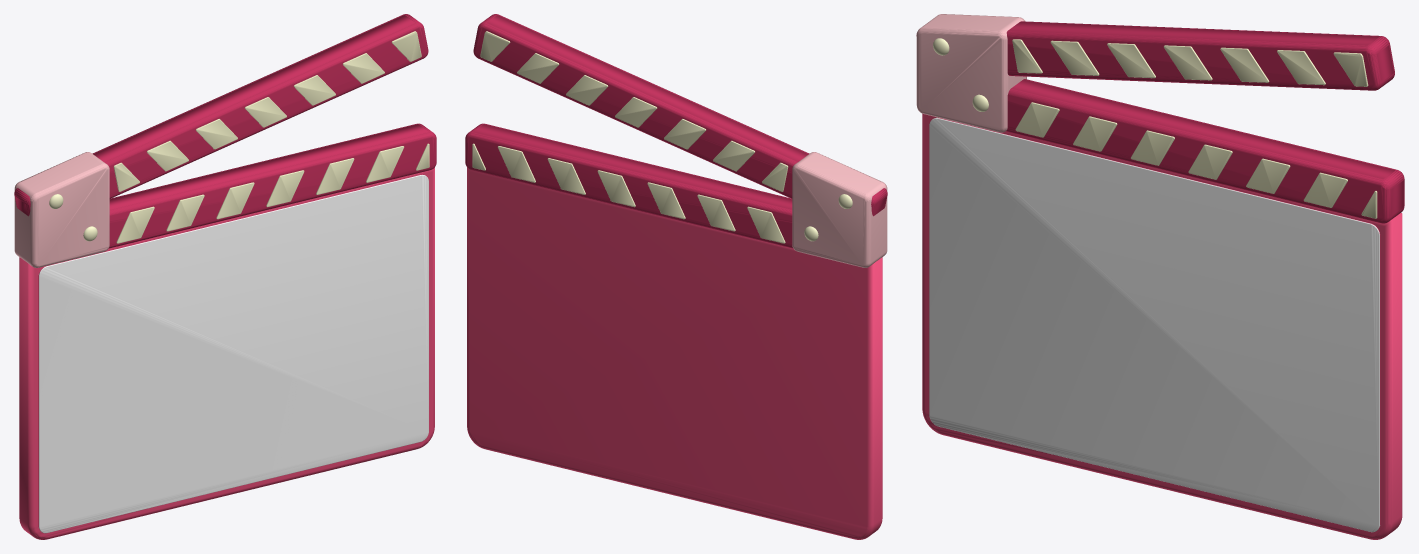
The model's file is Sembang_Clapperboard.obj.
The picture shows the model from 3 angles, left to right: view 1: azimuth 30°, elevation 25°; view 2: azimuth 150°, elevation 25°; view 3: azimuth 330°, elevation 25°; orthographic projection. The views are drawn at different scales.
Visible parts, largest first — view 1: Slate_Face, Clapper_Arm_Stick, Fixed_Stick, Slate_Body, Hinge_Block, Fixed_Stripe_front_1, Fixed_Stripe_front_4, Fixed_Stripe_front_2, Fixed_Stripe_front_5, Fixed_Stripe_front_6, Fixed_Stripe_front_3, Clapper_Arm_Stripe_front_2 (+5 smaller); view 2: Slate_Body, Clapper_Arm_Stick, Fixed_Stick, Hinge_Block, Fixed_Stripe_back_1, Fixed_Stripe_back_4, Fixed_Stripe_back_2, Fixed_Stripe_back_5, Fixed_Stripe_back_6, Fixed_Stripe_back_3, Clapper_Arm_Stripe_back_2, Clapper_Arm_Stripe_back_3 (+4 smaller); view 3: Slate_Face, Fixed_Stick, Clapper_Arm_Stick, Slate_Body, Hinge_Block, Clapper_Arm_Stripe_front_5, Clapper_Arm_Stripe_front_4, Clapper_Arm_Stripe_front_2, Clapper_Arm_Stripe_front_6, Clapper_Arm_Stripe_front_3, Fixed_Stripe_front_1, Fixed_Stripe_front_4 (+6 smaller).
Part boxes in pixels (x1,y1,x2,y2): Slate_Face: [38, 174, 428, 533]; Clapper_Arm_Stick: [14, 14, 428, 216]; Fixed_Stick: [108, 123, 436, 248]; Slate_Body: [19, 167, 434, 539]; Hinge_Block: [14, 152, 109, 267]; Fixed_Stripe_front_1: [116, 206, 154, 243]; Fixed_Stripe_front_4: [266, 170, 304, 207]; Fixed_Stripe_front_2: [166, 194, 204, 231]; Fixed_Stripe_front_5: [316, 158, 354, 194]; Fixed_Stripe_front_6: [366, 146, 404, 182]; Fixed_Stripe_front_3: [216, 182, 254, 219]; Clapper_Arm_Stripe_front_2: [147, 140, 188, 171]; Slate_Body: [467, 167, 882, 539]; Clapper_Arm_Stick: [473, 14, 887, 216]; Fixed_Stick: [465, 123, 793, 248]; Hinge_Block: [792, 152, 887, 267]; Fixed_Stripe_back_1: [747, 206, 785, 243]; Fixed_Stripe_back_4: [597, 170, 635, 207]; Fixed_Stripe_back_2: [697, 194, 735, 231]; Fixed_Stripe_back_5: [547, 158, 585, 194]; Fixed_Stripe_back_6: [497, 146, 535, 182]; Fixed_Stripe_back_3: [647, 182, 685, 219]; Clapper_Arm_Stripe_back_2: [713, 140, 754, 171]; Clapper_Arm_Stripe_back_3: [664, 119, 705, 149]; Slate_Face: [929, 117, 1380, 532]; Fixed_Stick: [1006, 79, 1404, 223]; Clapper_Arm_Stick: [916, 21, 1394, 90]; Slate_Body: [922, 113, 1402, 539]; Hinge_Block: [916, 14, 1026, 132]; Clapper_Arm_Stripe_front_5: [1220, 47, 1269, 82]; Clapper_Arm_Stripe_front_4: [1163, 45, 1212, 80]; Clapper_Arm_Stripe_front_2: [1050, 40, 1099, 75]; Clapper_Arm_Stripe_front_6: [1277, 50, 1325, 85]; Clapper_Arm_Stripe_front_3: [1107, 43, 1155, 78]; Fixed_Stripe_front_1: [1015, 102, 1059, 137]; Fixed_Stripe_front_4: [1188, 144, 1232, 179].
Size of the model in its own units: 4.44 by 4.42 by 0.4625.
